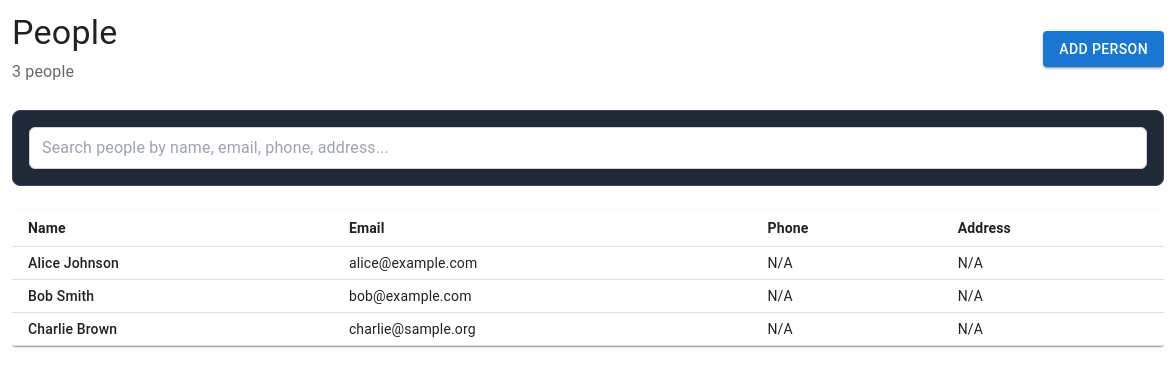
Test: PeopleTab (MUI version) › filters via search updates list and count
The image size is (1176, 365).
In the field with placeholder "Search people by name, email, phone, address...": (588, 148) [29, 127, 1147, 169], type "alice"
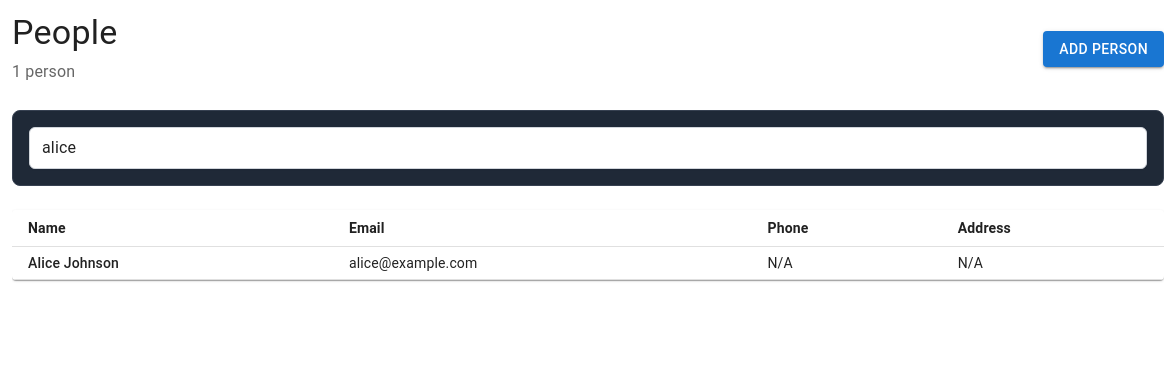
Expected: the text "Bob Smith" is gone
Expected: the text "Charlie Brown" is gone
Expected: the heading "1 person" is shown, [12, 62, 75, 81]
